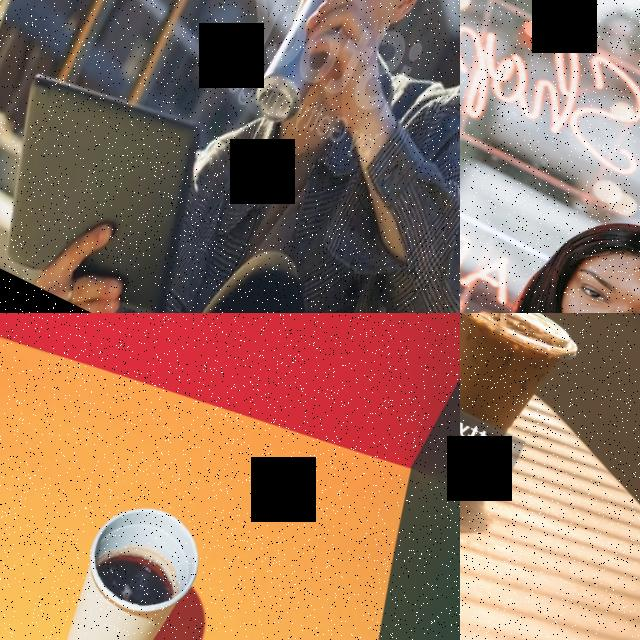can: (246, 0, 355, 129)
cup: (460, 0, 640, 313), (20, 487, 215, 640), (460, 313, 583, 446)
